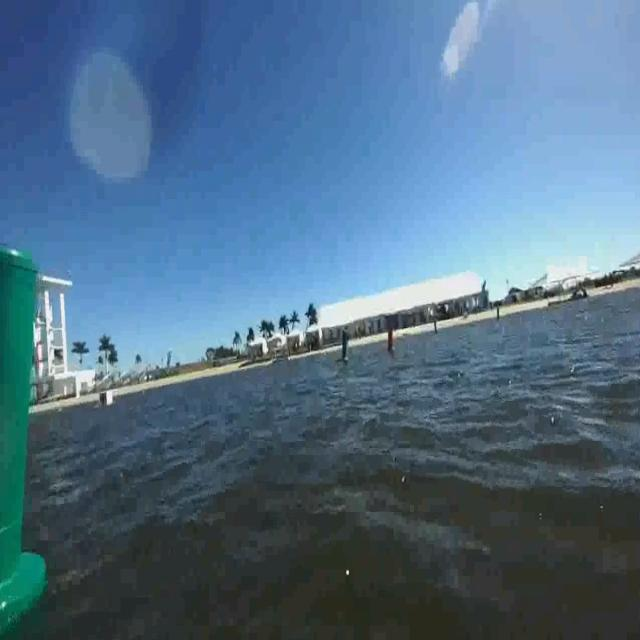green-column-buoy: (0, 240, 48, 619), (339, 329, 351, 365)
